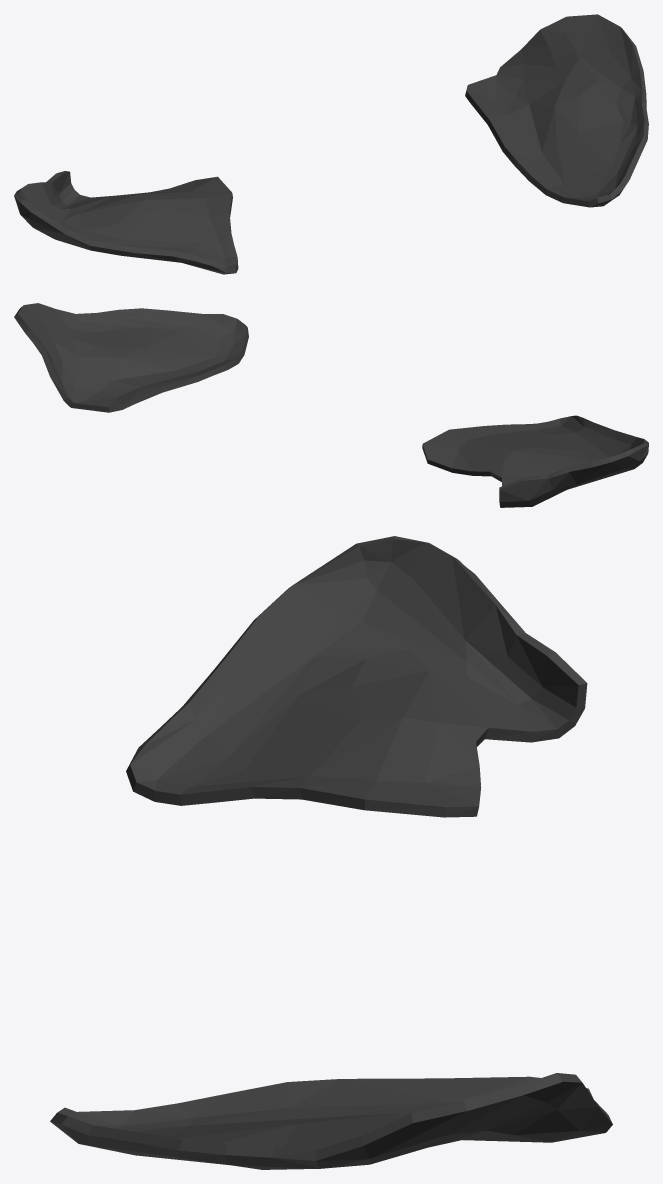
The model's file is c7_caudal_costal_fovea.glb.
3 views of the same model, one above another, from view 1: azimuth 30°, elevation 25°; view 2: azimuth 150°, elevation 25°; view 3: azimuth 270°, elevation 25° (orthographic). The views are drawn at different scales.
Visible parts, largest first — view 1: c7_caudal_costal_fovea; view 2: c7_caudal_costal_fovea; view 3: c7_caudal_costal_fovea.
Boxes of the visible parts, x1=… form: c7_caudal_costal_fovea: x1=14, y1=14, x2=648, y2=274; c7_caudal_costal_fovea: x1=14, y1=303, x2=648, y2=507; c7_caudal_costal_fovea: x1=50, y1=536, x2=612, y2=1169.
Bounding box in the file's own units: 27.21 × 3.61 × 11.01.
1 material, 1 textured.
